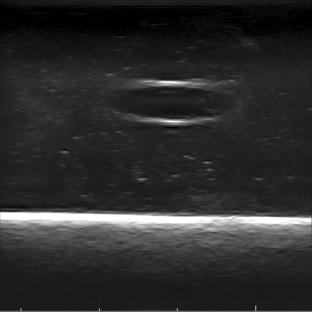vessel: (114, 80, 232, 126)
